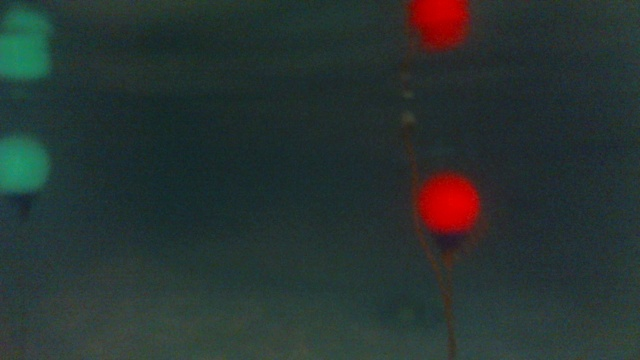buoy_red: (417, 170, 480, 255)
